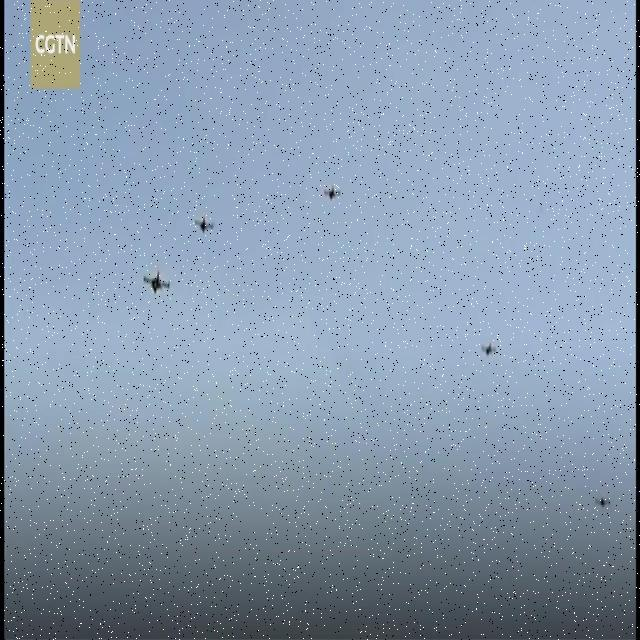UAV: (143, 270, 171, 295), (194, 215, 214, 235), (324, 185, 341, 203), (482, 342, 496, 358), (595, 498, 611, 508)
